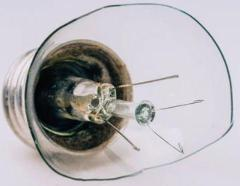lightbulb: (1, 1, 234, 180), (49, 76, 117, 124), (135, 100, 155, 126)
